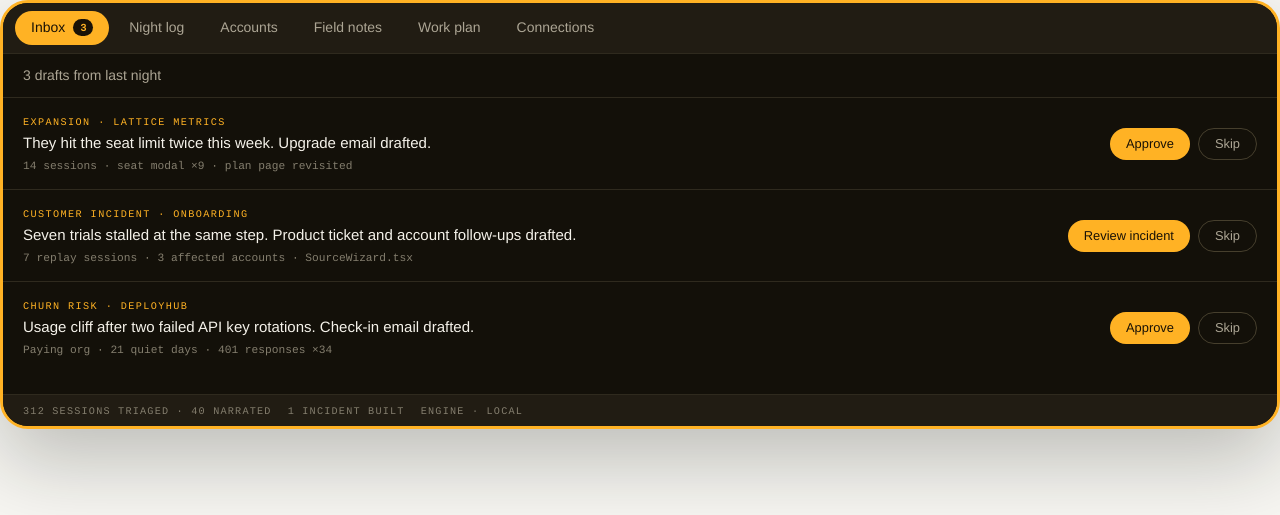
Demo cross-tab flows › approves the agent proposal into the schedule
The image size is (1280, 515).
What coordinates should you click on to do the following:
click the button "Work plan"
I would click on:
 (449, 28)
Its box is [402, 11, 497, 44].
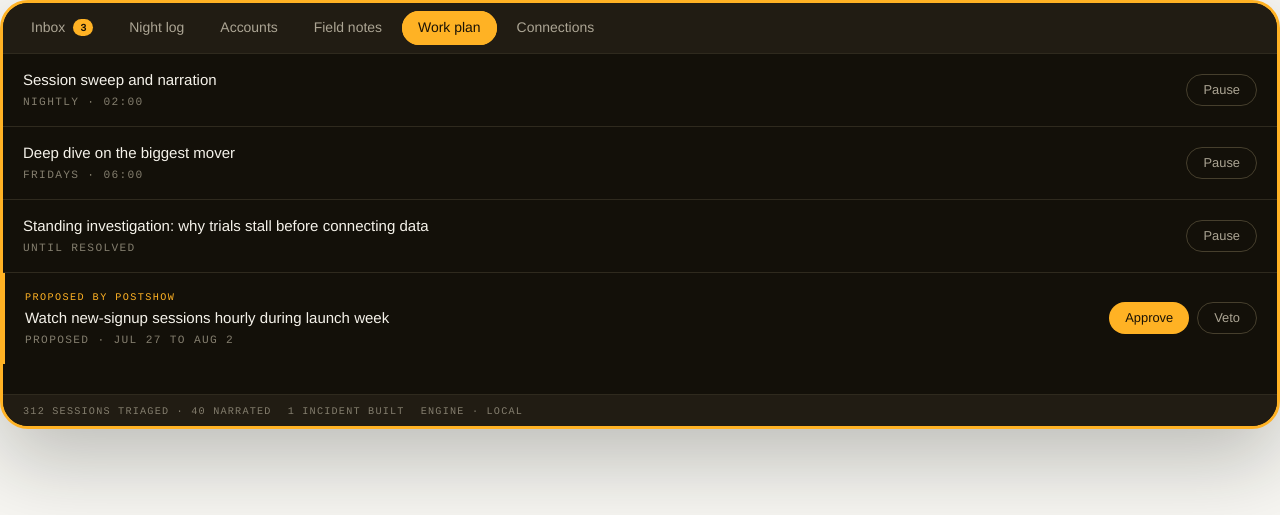
What coordinates should you click on to do the following:
click the button "Approve"
I would click on:
 (1149, 318)
Its box is [1109, 302, 1189, 334].
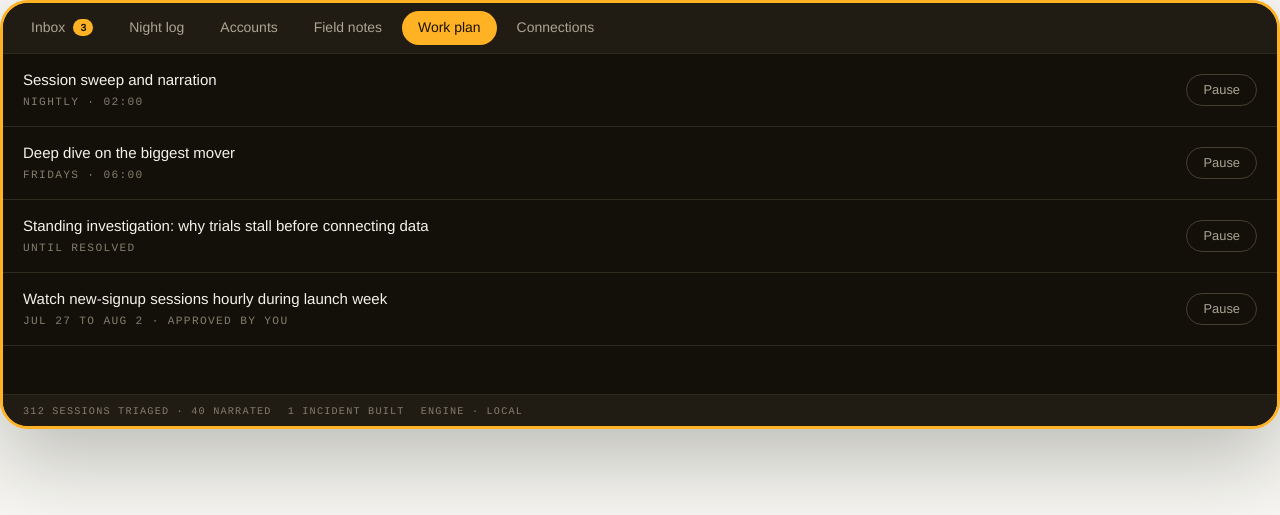
Now the text "jul 27 to aug 2 · approved by you" is shown, box [23, 314, 288, 326]
